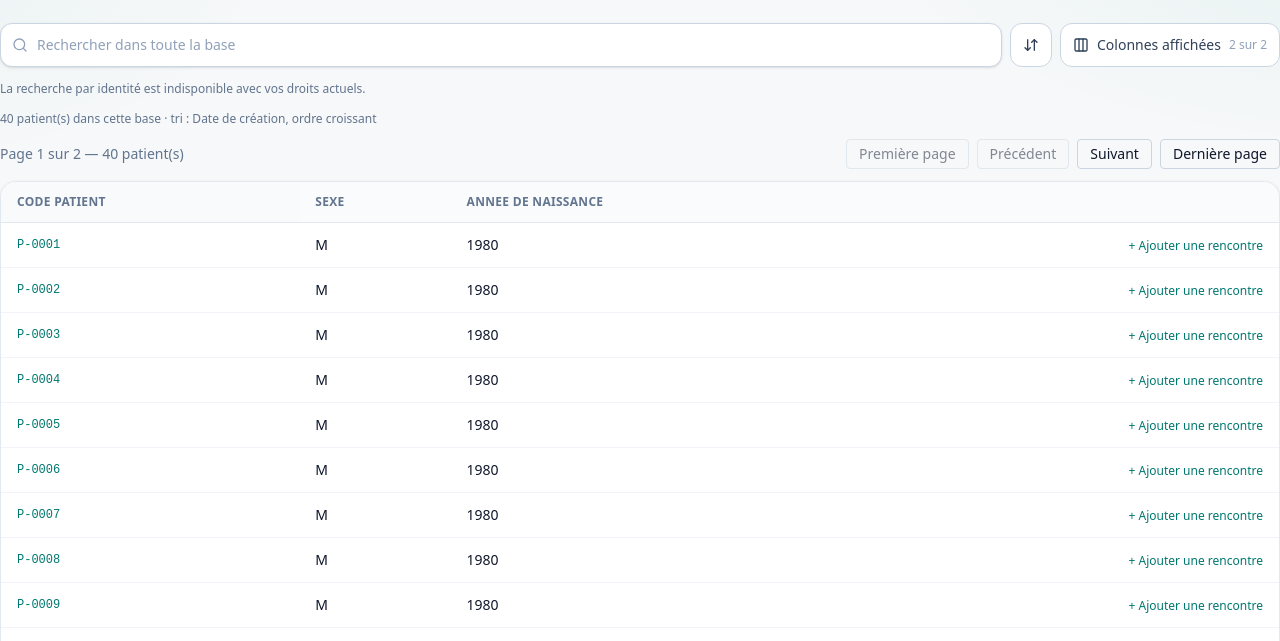
Test: BaseHome (liste patients) › P01 — un stockage refuse garde le choix de colonnes pour la session, sans le persister
Expected: the button "P-0001" is shown, [17,237,60,253]
Click the button "Colonnes affichées 2 sur 2".
click(1170, 45)  # box [1060,23,1279,67]
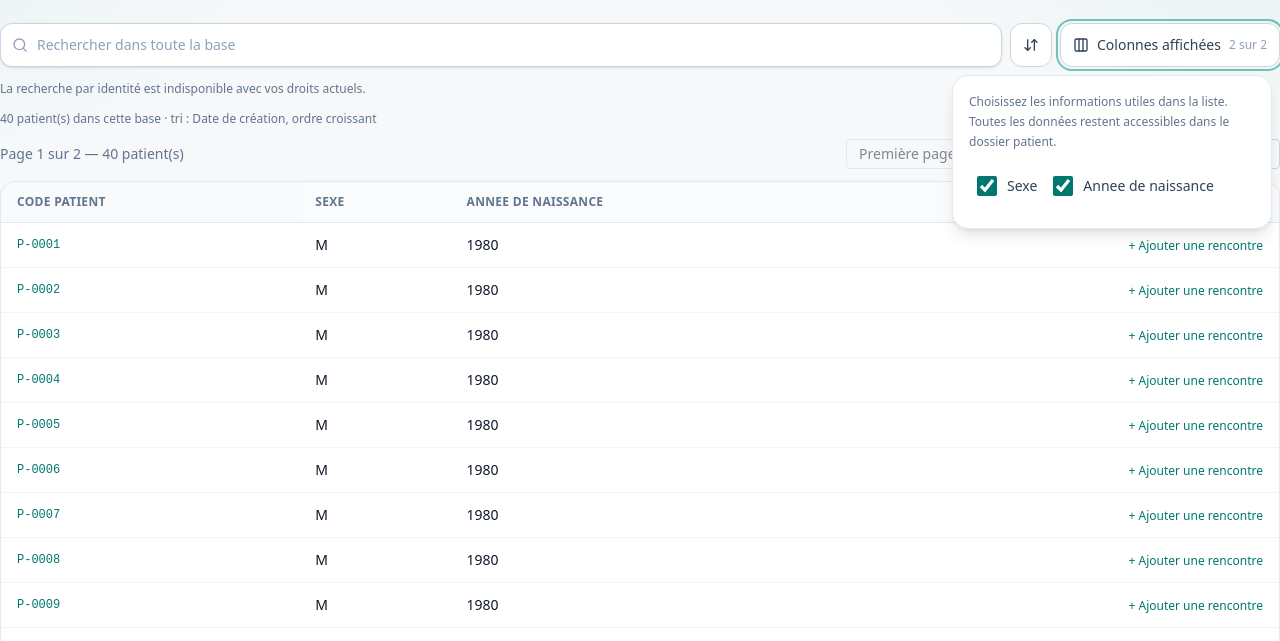
Click the checkbox labelled "Annee de naissance".
click(1063, 186)  # box [1053,176,1073,196]
(page scrolled)
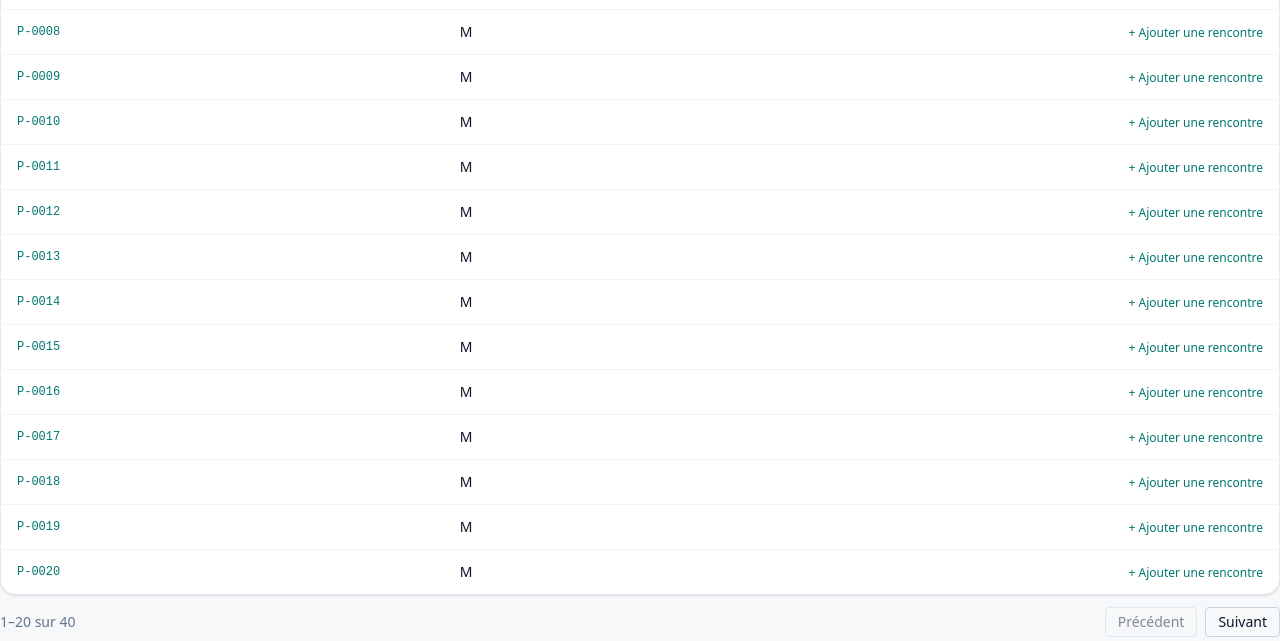
Expected: the column heading "Annee de naissance" is not shown
Changement de page DANS LA MEME BASE : le choix doit tenir la session.
Click the button "Suivant".
click(1243, 622)  # box [1205,607,1279,637]
(page scrolled)
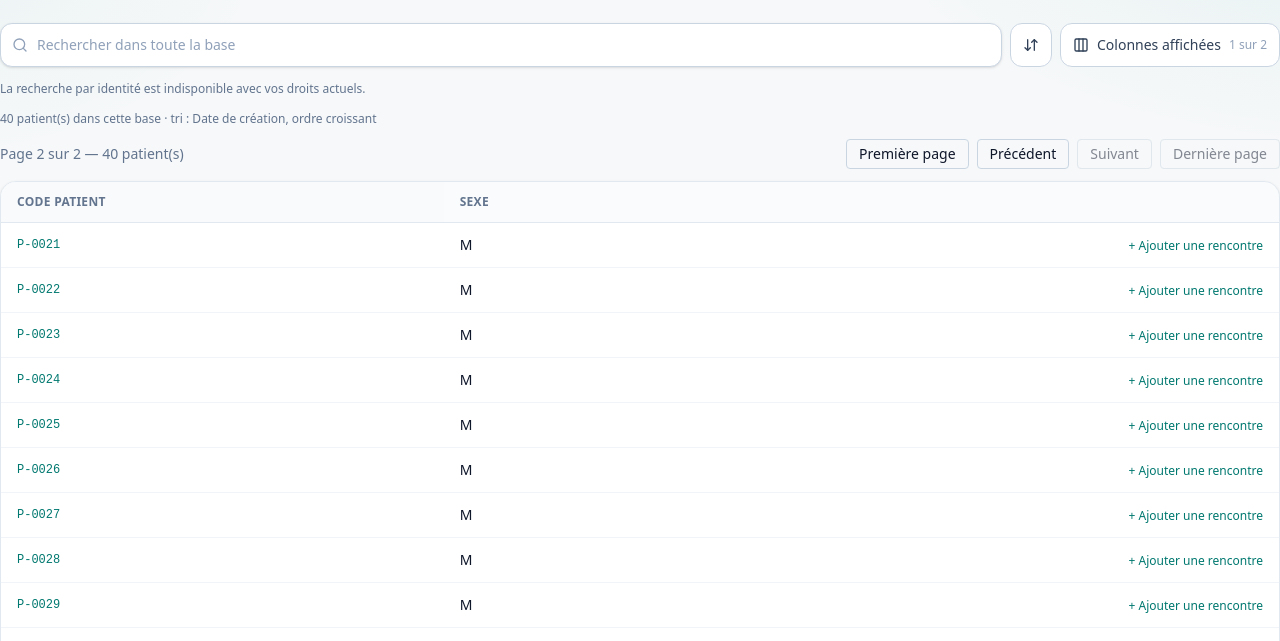
Now the button "P-0021" is shown, box [17,237,60,253]
